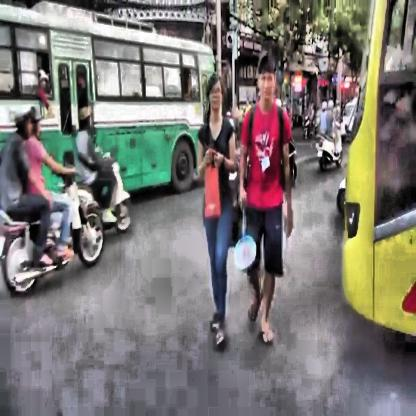not_wear: (257, 52, 276, 106), (205, 71, 224, 110)
